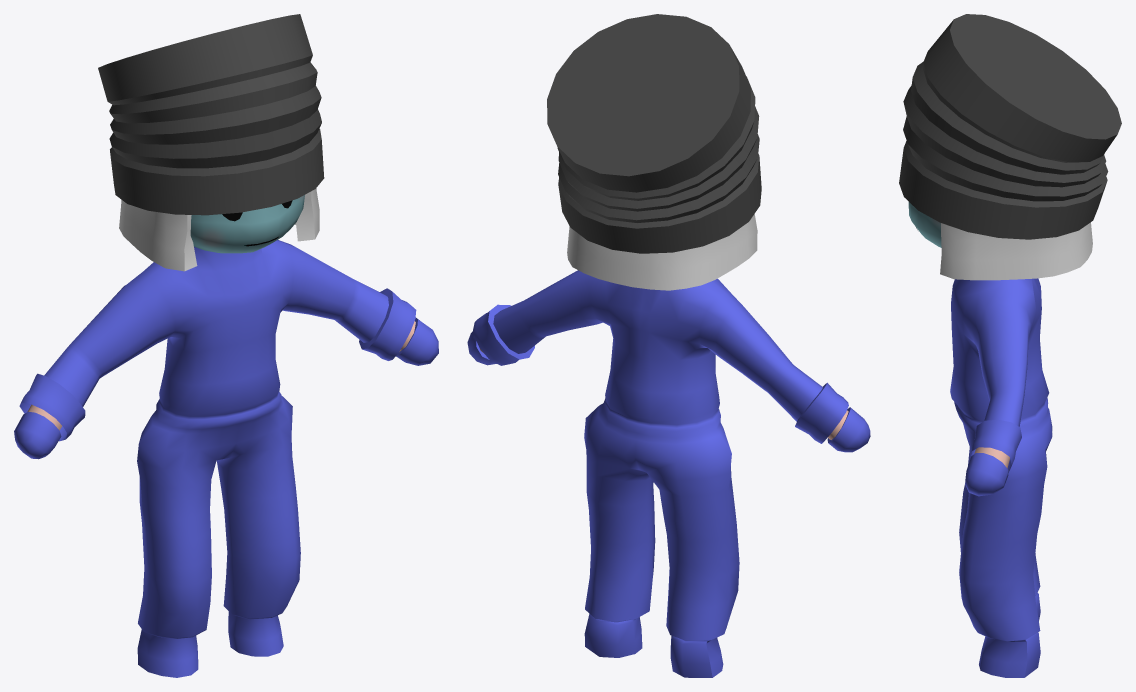
File: Sn_character.fbx
The picture shows the model from 3 angles, left to right: view 1: azimuth 30°, elevation 25°; view 2: azimuth 150°, elevation 25°; view 3: azimuth 270°, elevation 25°; orthographic projection. The views are drawn at different scales.
Parts seen in each view (by area): view 1: Iron_Team_Outfit.003, Cylinder.008, Head.004, Head.002; view 2: Iron_Team_Outfit.003, Cylinder.008, Head.004; view 3: Cylinder.008, Iron_Team_Outfit.003, Head.004, Head.002.
Part boxes in pixels (<box>): Iron_Team_Outfit.003: <box>14,240,438,677</box>; Cylinder.008: <box>98,14,324,215</box>; Head.004: <box>119,188,319,271</box>; Head.002: <box>190,195,304,253</box>; Iron_Team_Outfit.003: <box>467,270,870,677</box>; Cylinder.008: <box>547,14,761,253</box>; Head.004: <box>567,214,757,290</box>; Cylinder.008: <box>899,14,1121,239</box>; Iron_Team_Outfit.003: <box>950,278,1052,677</box>; Head.004: <box>940,222,1092,280</box>; Head.002: <box>908,202,941,247</box>.
Size of the model in its own units: 274 by 409 by 134.
